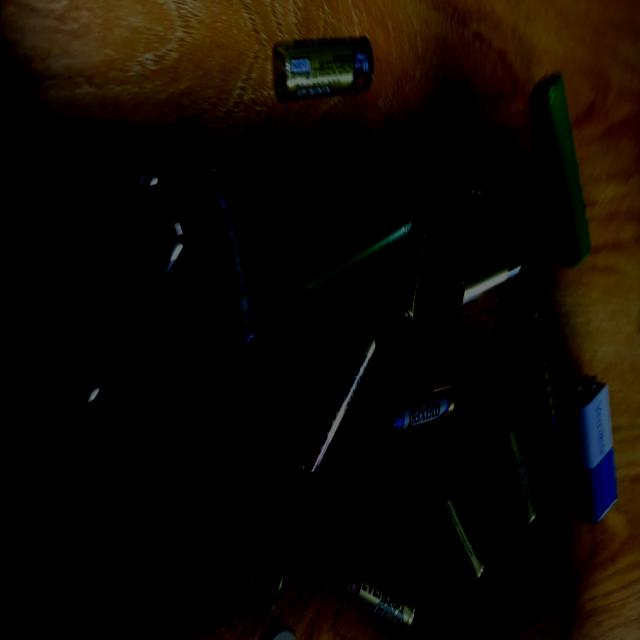9V: (44, 156, 184, 402), (564, 377, 616, 525)
AA: (289, 312, 376, 478), (416, 446, 485, 580), (387, 144, 438, 320), (326, 534, 412, 633), (483, 380, 536, 526), (273, 36, 372, 102), (446, 234, 522, 308)
AAA: (189, 153, 260, 359), (518, 290, 564, 434), (380, 362, 464, 439)
COIN: (460, 132, 488, 200)
